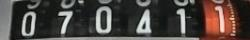digits: (19, 1, 42, 37), (55, 0, 77, 36), (93, 0, 115, 35), (211, 0, 231, 37), (173, 0, 192, 37), (134, 0, 153, 36)
